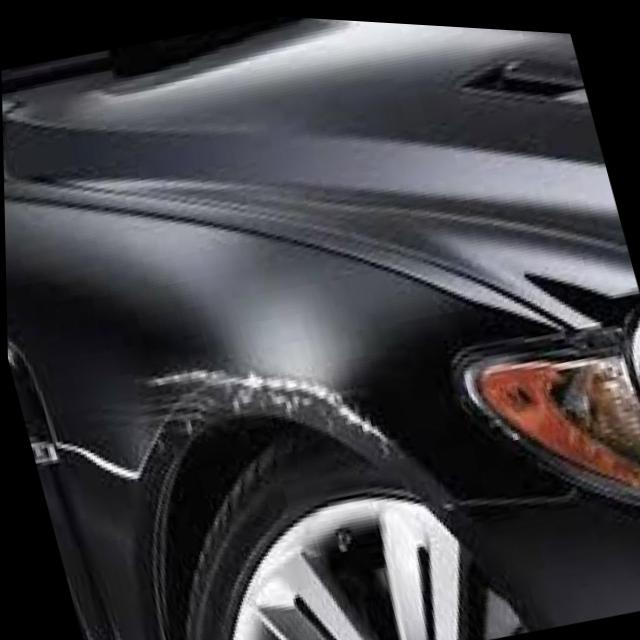Scratch: (99, 301, 385, 502)
